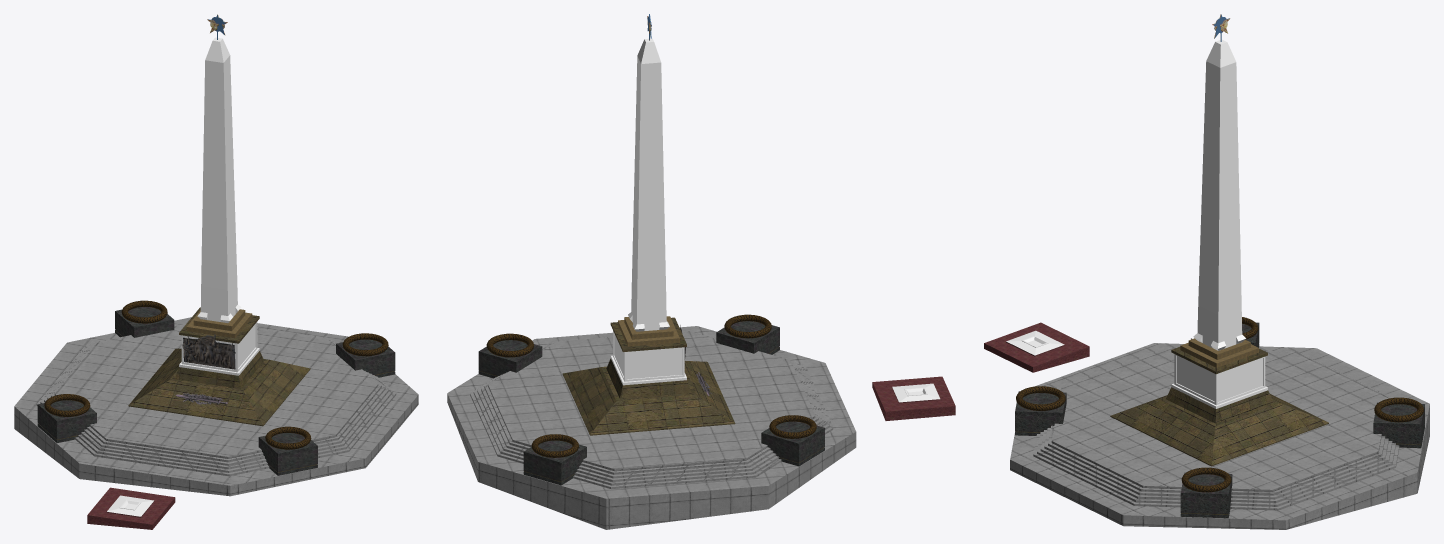
File: hero-_monument-_minsk.glb
3 views of the same model, side by side, from view 1: azimuth 30°, elevation 25°; view 2: azimuth 150°, elevation 25°; view 3: azimuth 270°, elevation 25° (orthographic). The views are drawn at different scales.
Parts seen in each view (by area): view 1: Object_2, Object_10, Object_6, Object_5, Object_11, Object_4, Object_8, Object_3; view 2: Object_2, Object_10, Object_6, Object_5, Object_11, Object_4, Object_3; view 3: Object_2, Object_10, Object_6, Object_5, Object_4, Object_11, Object_3.
Part boxes in pixels (left/top/right/bottom): Object_2: left=14, top=317, right=418, bottom=496; Object_10: left=107, top=37, right=259, bottom=516; Object_6: left=38, top=307, right=394, bottom=472; Object_5: left=37, top=307, right=395, bottom=475; Object_11: left=44, top=300, right=388, bottom=449; Object_4: left=87, top=487, right=175, bottom=529; Object_8: left=182, top=334, right=235, bottom=369; Object_3: left=186, top=309, right=252, bottom=338; Object_2: left=447, top=326, right=856, bottom=529; Object_10: left=610, top=38, right=940, bottom=402; Object_6: left=479, top=317, right=823, bottom=482; Object_5: left=478, top=321, right=824, bottom=485; Object_11: left=486, top=314, right=816, bottom=457; Object_4: left=872, top=376, right=955, bottom=420; Object_3: left=618, top=316, right=679, bottom=346; Object_2: left=1010, top=343, right=1429, bottom=529; Object_10: left=1006, top=39, right=1267, bottom=408; Object_6: left=1015, top=347, right=1420, bottom=514; Object_5: left=1015, top=322, right=1424, bottom=518; Object_4: left=984, top=322, right=1089, bottom=372; Object_11: left=1016, top=317, right=1423, bottom=492; Object_3: left=1180, top=338, right=1258, bottom=367.
Bounding box in the file's own units: 39.57 × 41.46 × 37.13.
Materials: 10 (9 with a texture image).
